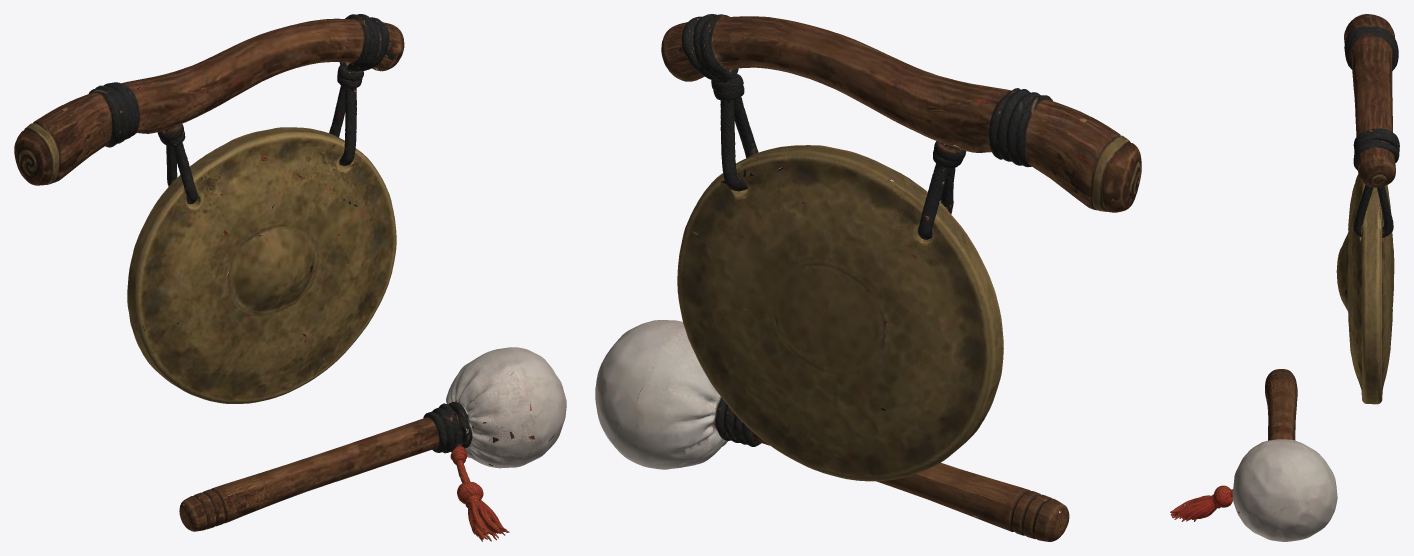
The model's file is release-manager.glb.
The picture shows the model from 3 angles, left to right: view 1: azimuth 30°, elevation 25°; view 2: azimuth 150°, elevation 25°; view 3: azimuth 270°, elevation 25°; orthographic projection. The views are drawn at different scales.
Size of the model in its own units: 1.9 by 1.69 by 0.9048.
1 material, 1 textured.
